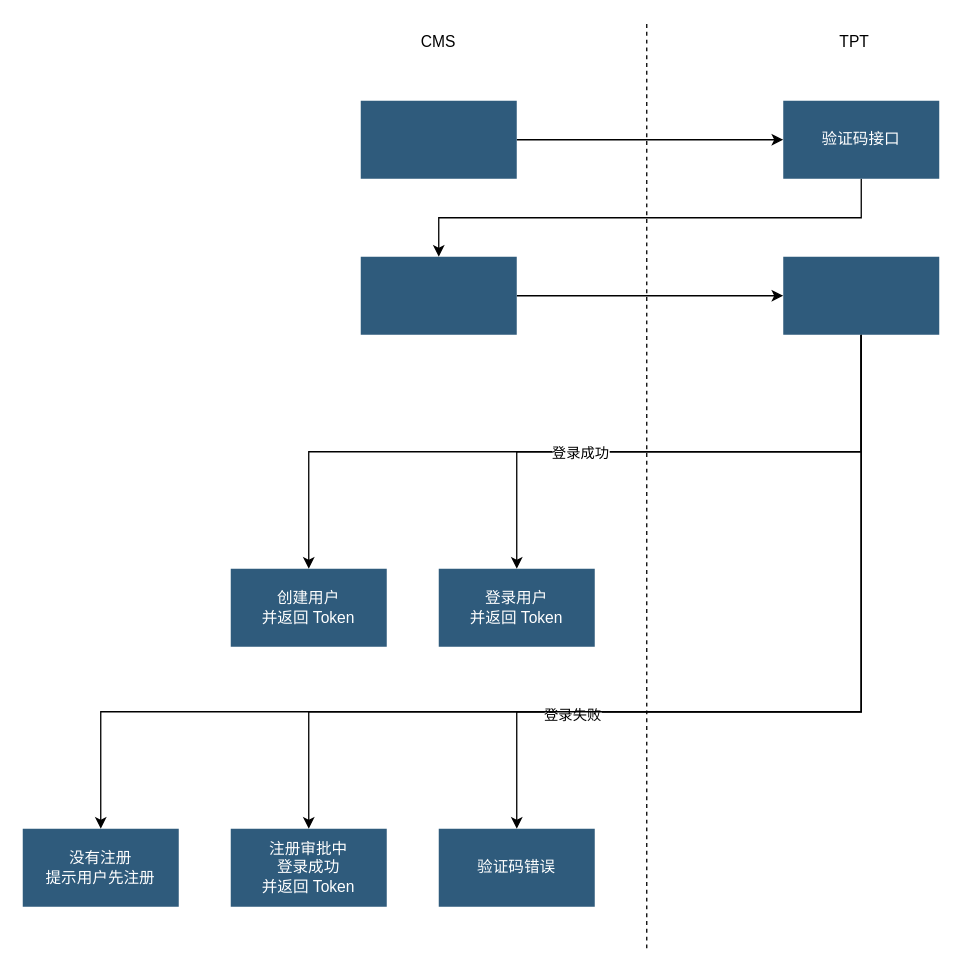
The diagram is 961 pixels wide and 972 high, and some of its shapes have lost their labels. The shapes that lost their labels are listed below. From the top down, each one's centre as x and y in pixels, then its label:
At (x=438, y=139): "用户获取验证码".
At (x=438, y=295): "用户填入验证码 发起登录".
At (x=861, y=295): "登录接口".
